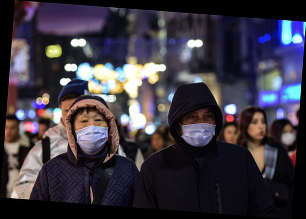with_mask: (71, 112, 110, 155), (180, 106, 218, 147), (281, 127, 297, 146)
without_mask: (248, 115, 269, 143), (5, 124, 20, 144)
